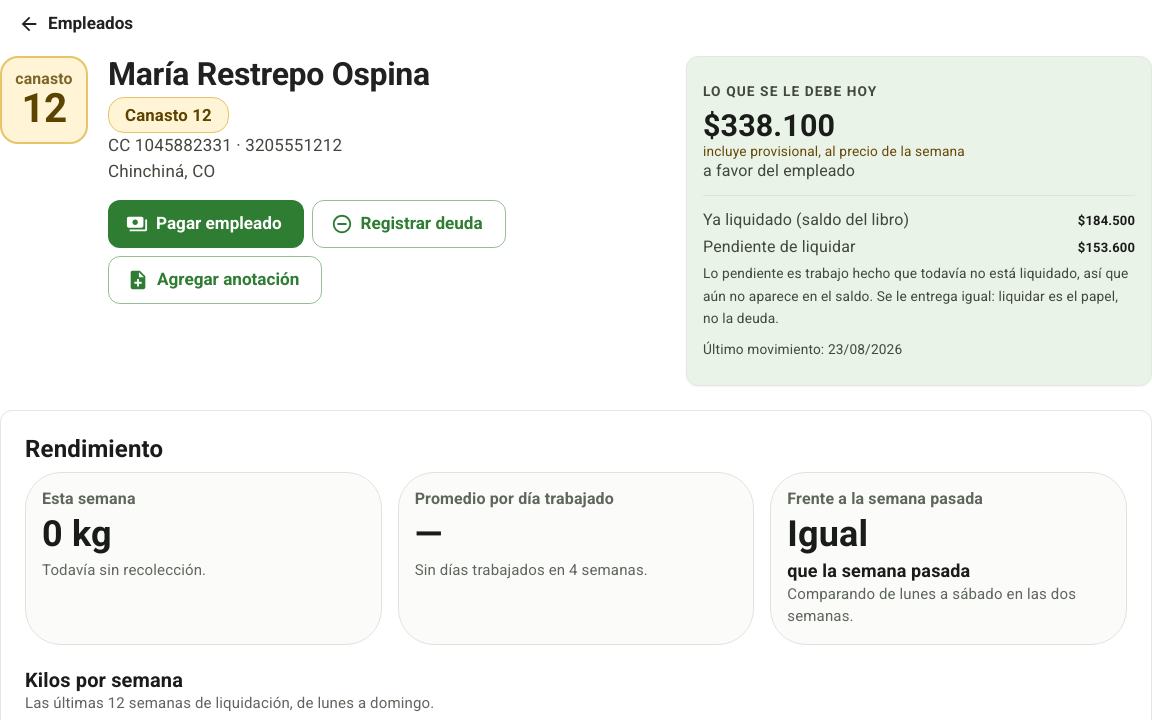
Test case: WorkerProfilePage › turns the account in the farm's favour after a large debt, and closes the note dialog
This screenshot has width=1152, height=720.
Click the button "Registrar deuda" at (409, 224), box [312, 200, 506, 248]
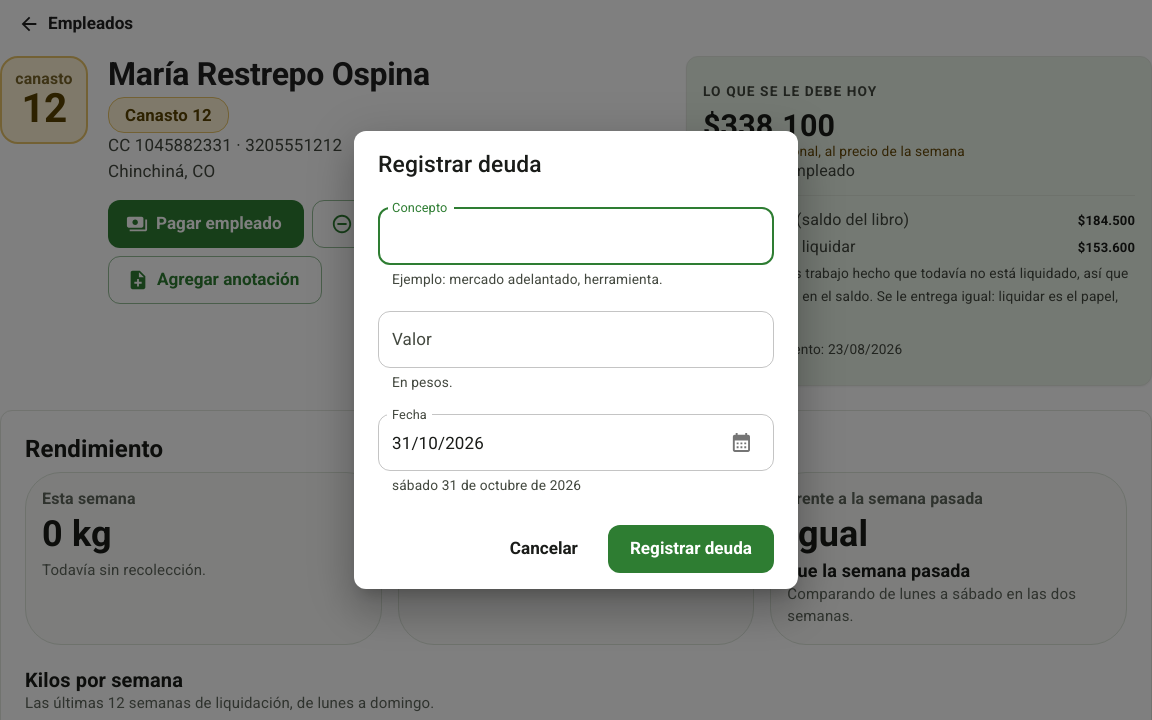
Type "Préstamo" into the field labelled "Concepto" at (576, 236), box [378, 208, 774, 265]
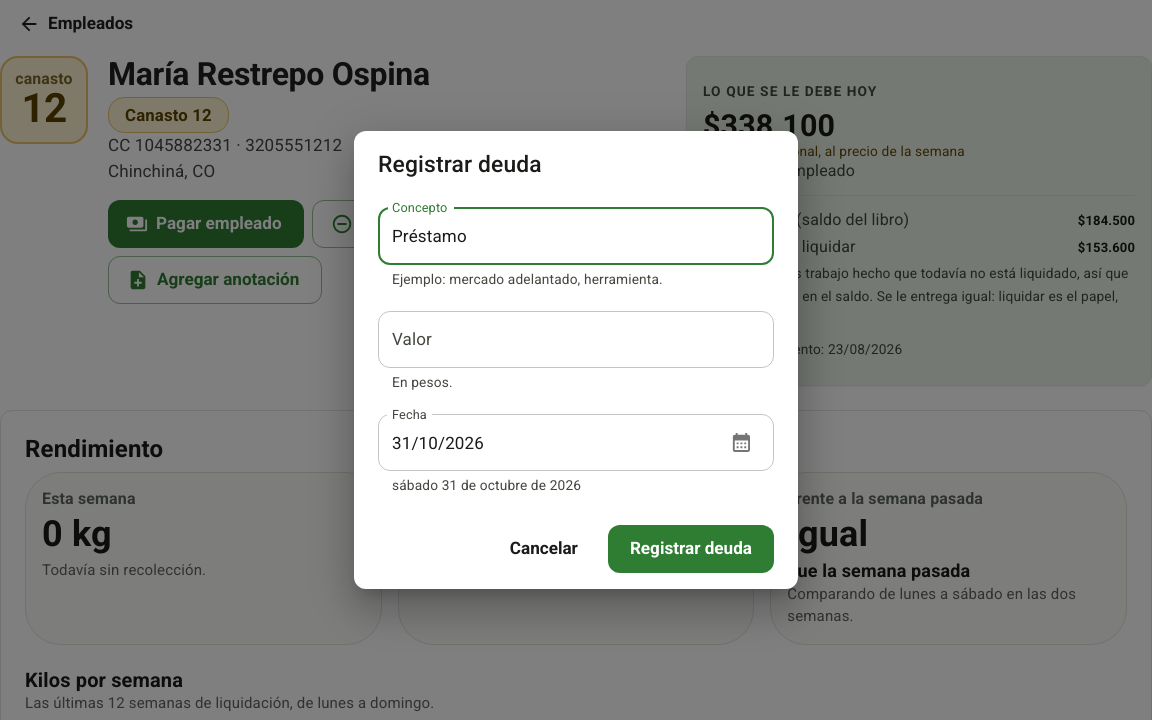
Type "90000000" into the field labelled "Valor" at (576, 339), box [378, 311, 774, 368]
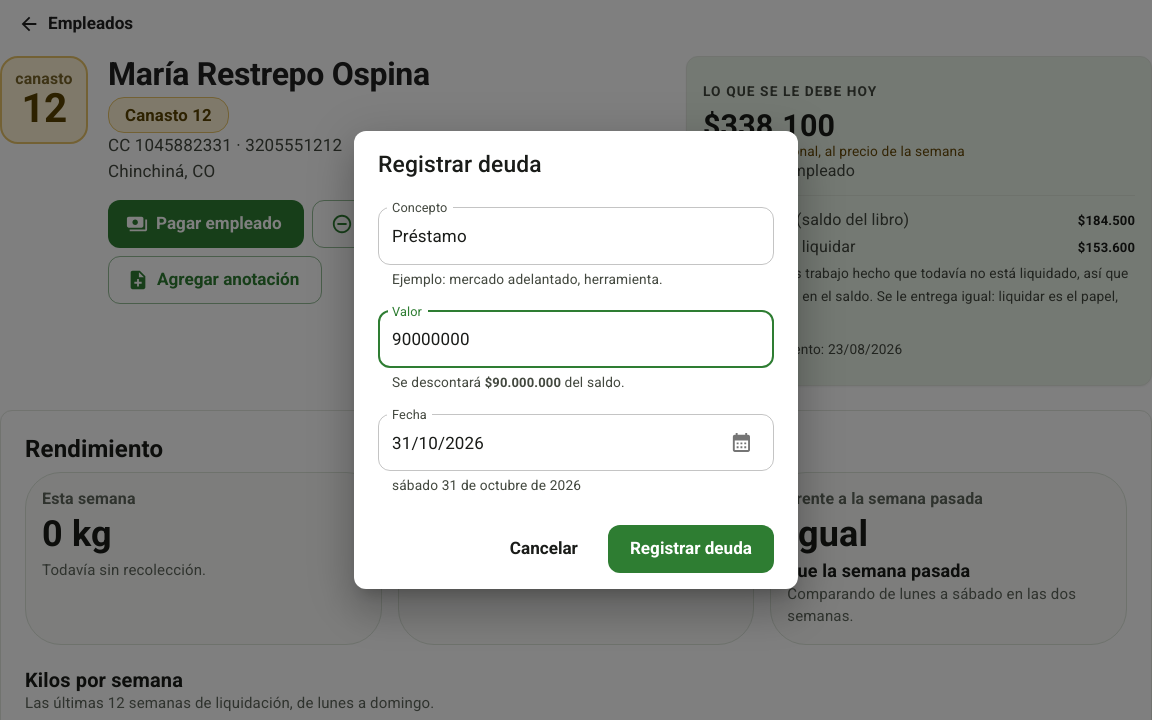
Click the button "Registrar deuda" at (691, 549), box [608, 525, 774, 573]
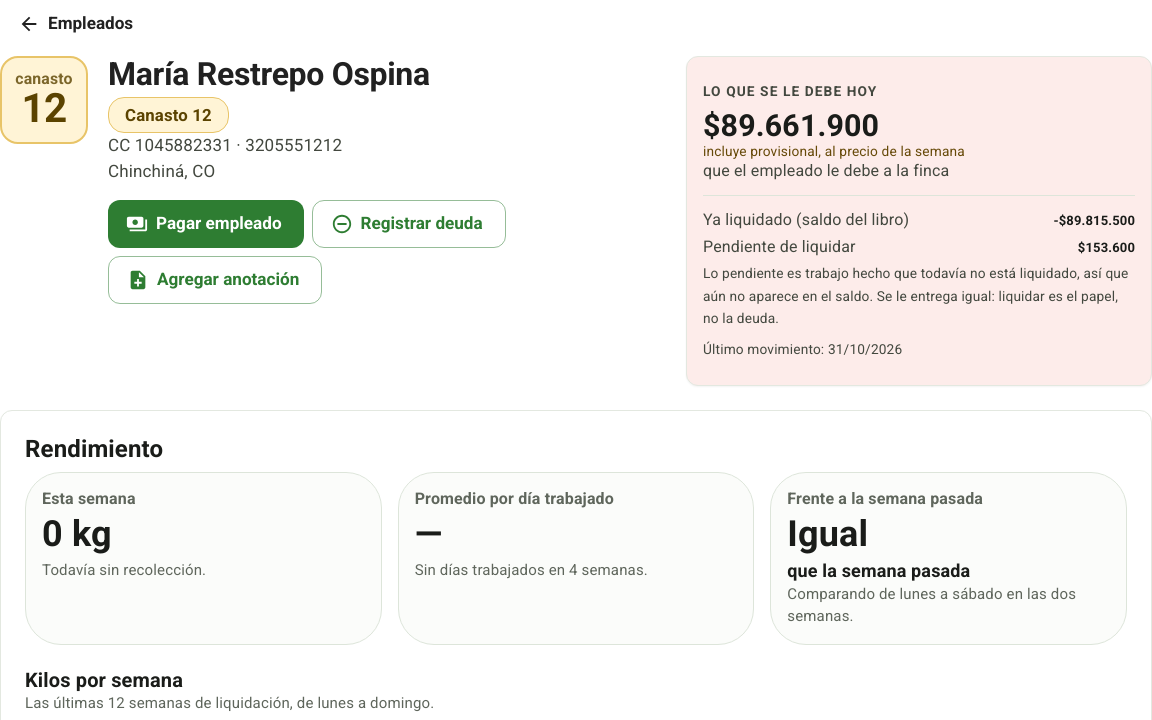
Now the text "que el empleado le debe a la finca" is shown, box [703, 161, 949, 180]
Now the dialog is gone
Click the button "Agregar anotación" at (215, 280), box [108, 256, 322, 304]
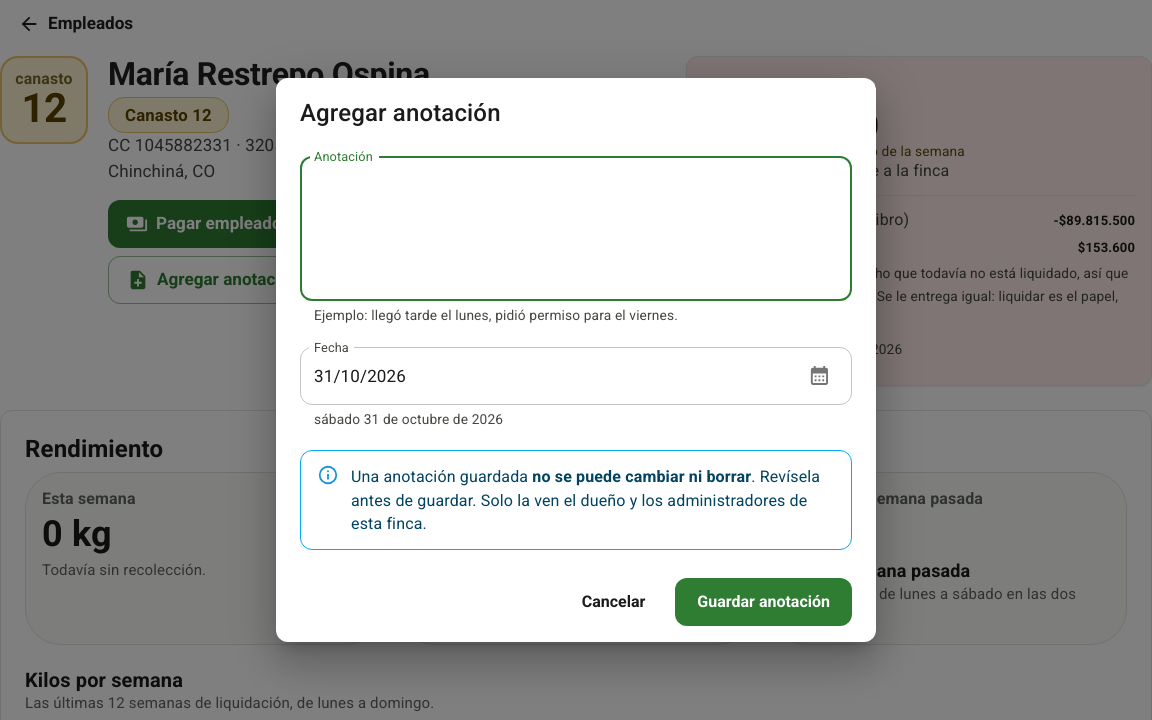
Click the button "Cancelar" at (614, 602), box [560, 578, 667, 626]
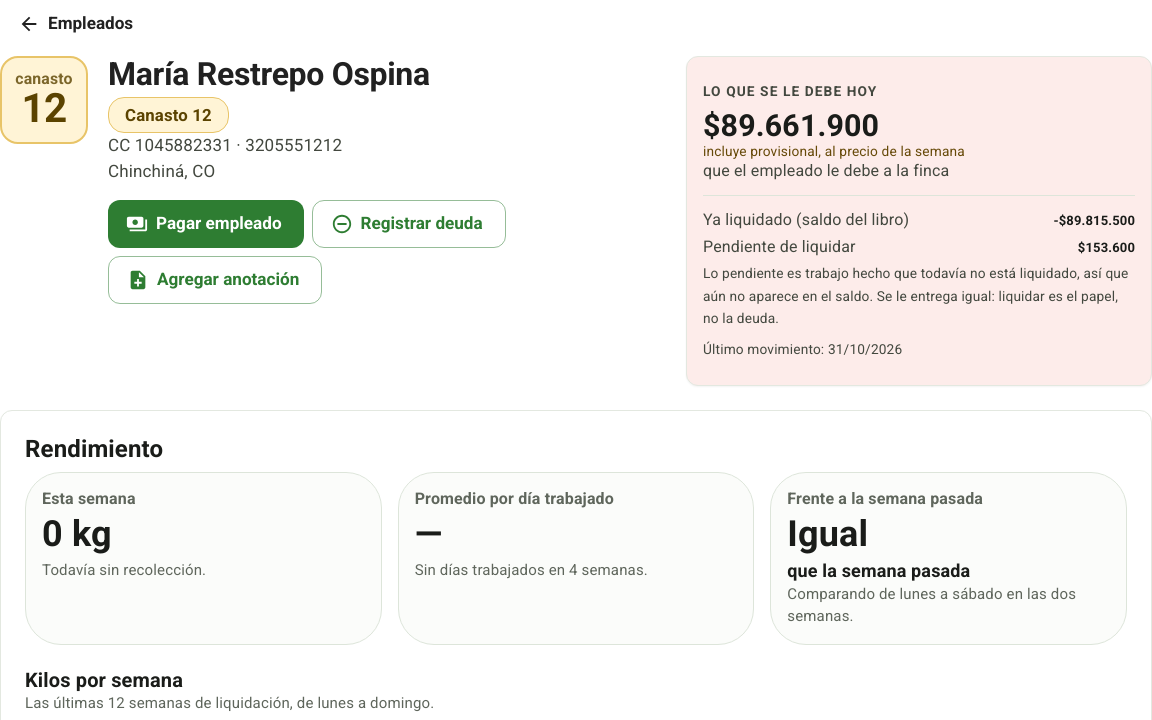
Now the dialog is gone
